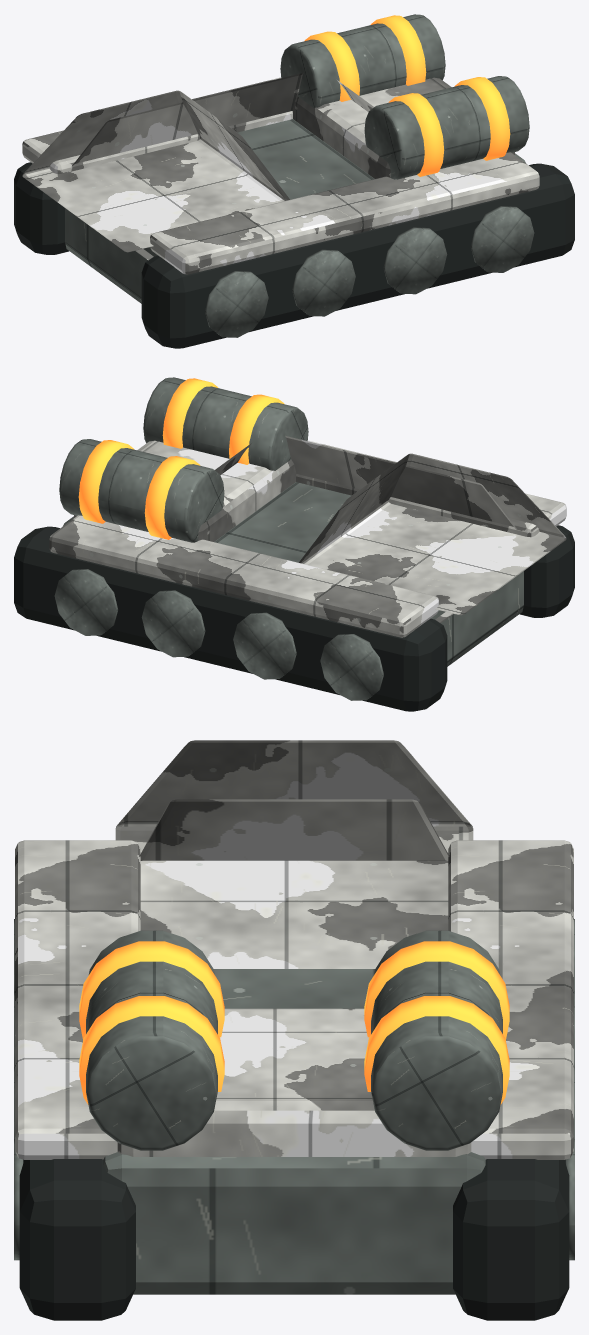
File: flame_tank_body.glb
3 renders of one model, top to bottom at view 1: azimuth 30°, elevation 25°; view 2: azimuth 150°, elevation 25°; view 3: azimuth 270°, elevation 25°, orthographic. The views are drawn at different scales.
Visible parts, largest first — view 1: flame_tank_body_factory_metal, flame_tank_body_team_primary, flame_tank_body_team_accent, flame_tank_body_rubber, flame_tank_body_warning_emissive; view 2: flame_tank_body_factory_metal, flame_tank_body_team_primary, flame_tank_body_team_accent, flame_tank_body_rubber, flame_tank_body_warning_emissive; view 3: flame_tank_body_factory_metal, flame_tank_body_team_accent, flame_tank_body_team_primary, flame_tank_body_rubber, flame_tank_body_warning_emissive.
Part boxes in pixels (box(x1,y1,x2,y2)): flame_tank_body_factory_metal: box(65, 14, 534, 337); flame_tank_body_team_primary: box(22, 72, 373, 260); flame_tank_body_team_accent: box(22, 77, 539, 274); flame_tank_body_rubber: box(14, 162, 574, 348); flame_tank_body_warning_emissive: box(304, 15, 510, 176); flame_tank_body_factory_metal: box(54, 377, 523, 700); flame_tank_body_team_primary: box(215, 435, 566, 623); flame_tank_body_team_accent: box(49, 440, 566, 637); flame_tank_body_rubber: box(14, 525, 574, 711); flame_tank_body_warning_emissive: box(78, 378, 284, 539); flame_tank_body_factory_metal: box(14, 919, 574, 1294); flame_tank_body_team_accent: box(15, 840, 573, 1159); flame_tank_body_team_primary: box(115, 740, 473, 968); flame_tank_body_rubber: box(19, 1159, 569, 1320); flame_tank_body_warning_emissive: box(79, 941, 509, 1104).
Bounding box in the file's own units: 3.1 × 1.13 × 2.07.
Materials: 5 (3 with a texture image).
